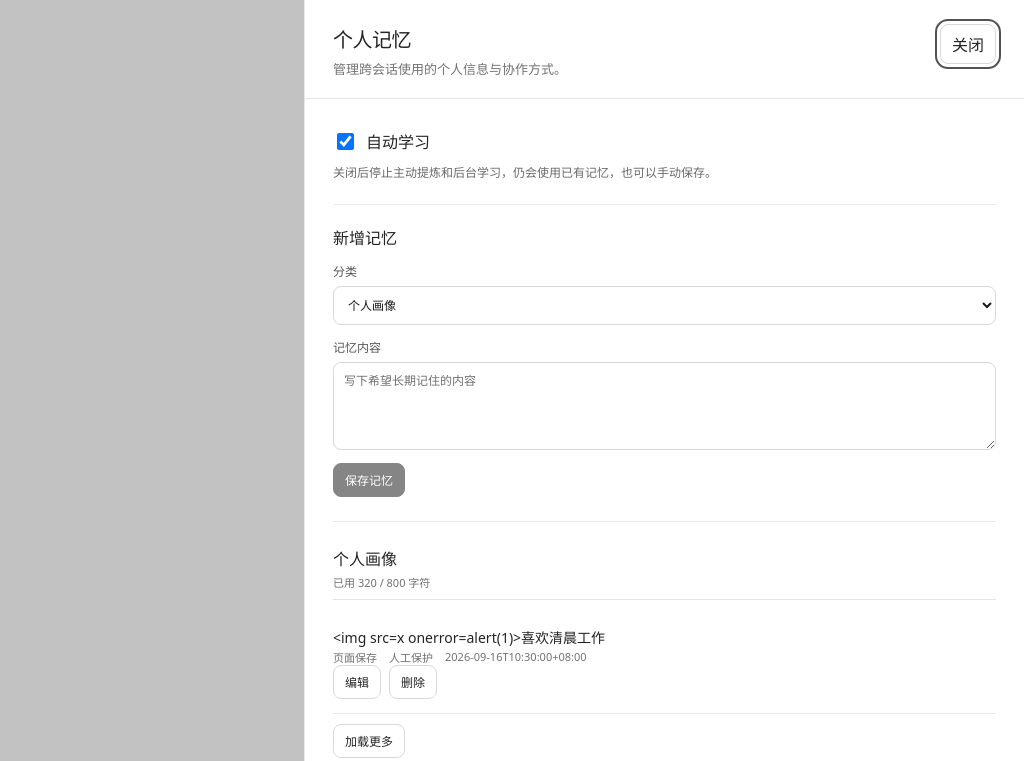
it: PersonalMemoryPanel › renders two category lists as plain text and loads the next category page
Expected: the text "<img src=x onerror=alert(1)>喜欢清晨工作" is shown, [333,628,605,647]
Expected: the text "已用 320 / 800 字符" is shown, [333,575,430,590]
Click the button with aria-label "加载更多个人画像". click: coordinates (369, 741)
box: [333,724,405,758]
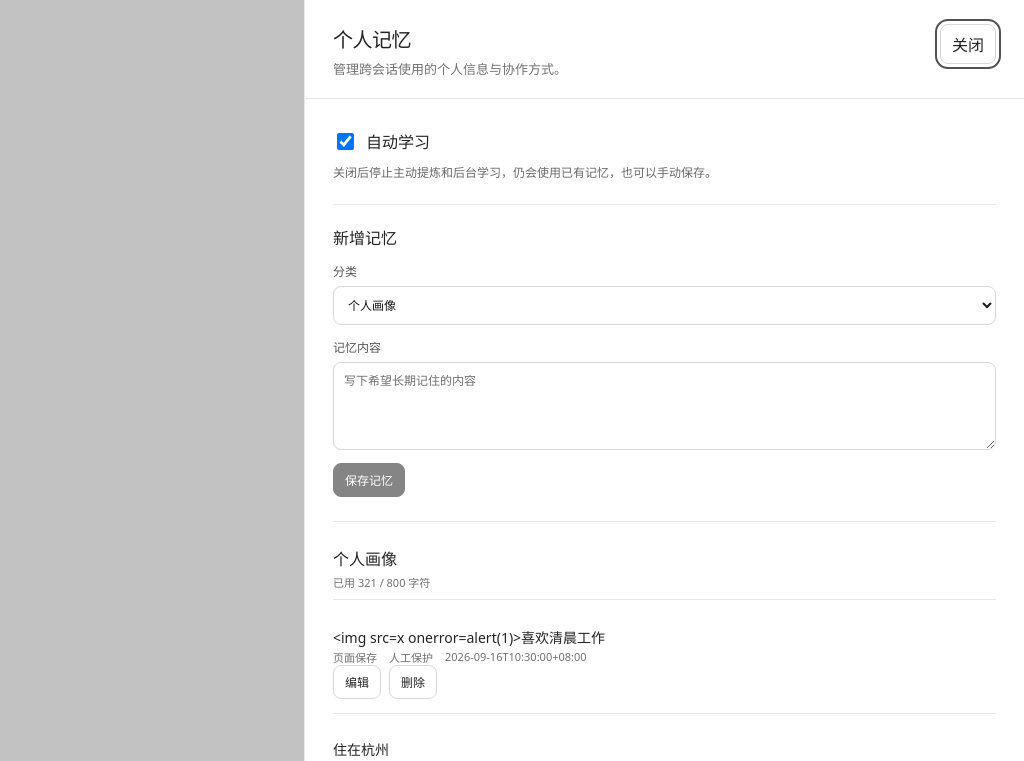
Result: the text "住在杭州" is shown at [333,740,389,759]
Result: the text "已用 321 / 800 字符" is shown at [333,575,430,590]
